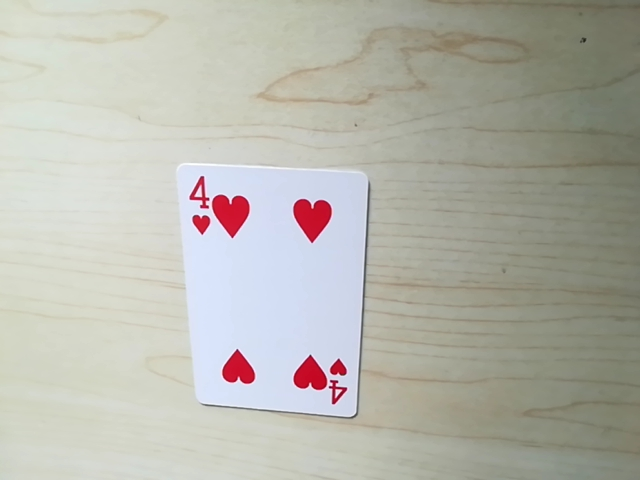hx 4: (183, 174, 211, 237), (327, 355, 352, 414)
